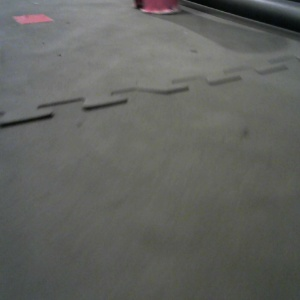Right: (199, 1, 274, 74)
